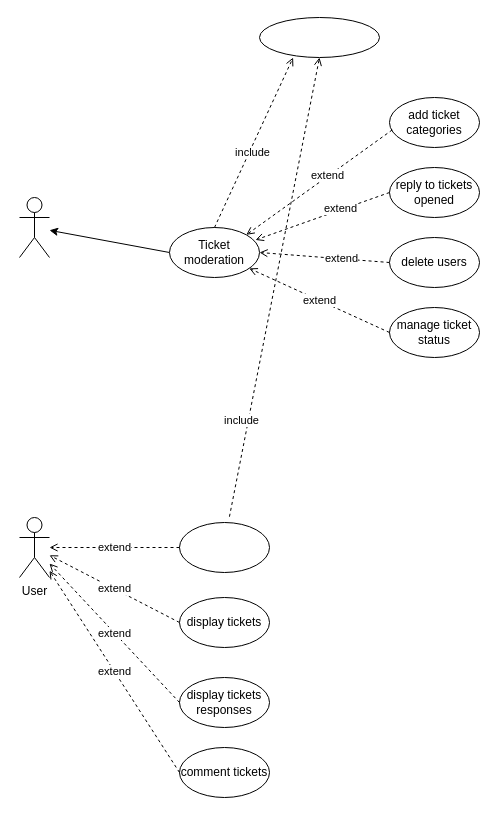
This 497x815 diagram has some shape labels left out. Each missing label, with the centre of its shape:
"Add tickets" goes at point (224, 547).
"Admin" goes at point (34, 227).
"Authentication" goes at point (319, 37).
